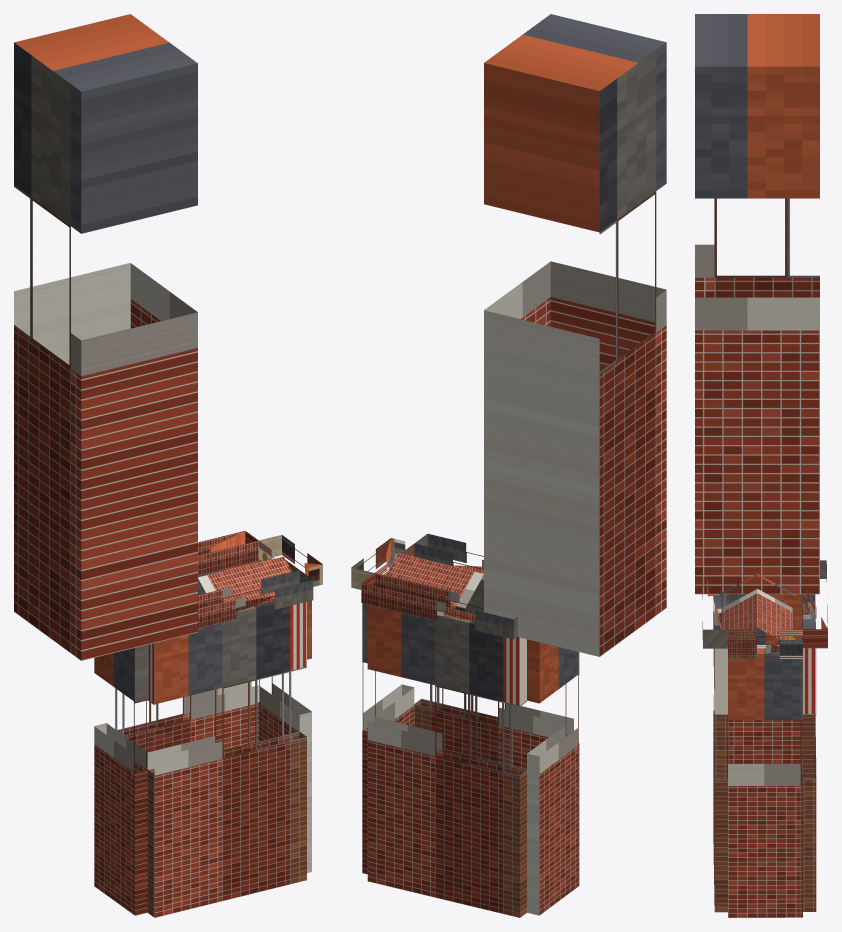
The picture shows the model from 3 angles, left to right: view 1: azimuth 30°, elevation 25°; view 2: azimuth 150°, elevation 25°; view 3: azimuth 270°, elevation 25°; orthographic projection. The views are drawn at different scales.
Visible parts, largest first — view 1: 1107169167__chimney_0_xb, 1107169167__wall_0_xb, 1107169167__wall_1_xb, 1107169167__wall_2_xb, 1107169167__wall_3_xb, 1107169167__cornice_0, 1107169167_roof_-1_xb, 1107169167__cornice_2, 1107169167__cornice_3; view 2: 1107169167__chimney_0_xb, 1107169167__wall_2_xb, 1107169167__wall_1_xb, 1107169167__wall_0_xb, 1107169167__cornice_2, 1107169167__wall_3_xb, 1107169167_roof_1_xb, 1107169167__cornice_0, 1107169167__cornice_3; view 3: 1107169167__chimney_0_xb, 1107169167__wall_3_xb, 1107169167__wall_1_xb, 1107169167__wall_0_xb, 1107169167__wall_2_xb, 1107169167__cornice_3, 1107169167_roof_1_xb, 1107169167_roof_-1_xb, 1107169167__cornice_2, 1107169167__cornice_0.
Part boxes in pixels (x1,y1,x2,y2): 1107169167__chimney_0_xb: [14, 14, 197, 660]; 1107169167__wall_0_xb: [147, 601, 306, 917]; 1107169167__wall_1_xb: [94, 645, 147, 915]; 1107169167__wall_2_xb: [115, 561, 258, 768]; 1107169167__wall_3_xb: [258, 558, 311, 872]; 1107169167__cornice_0: [198, 570, 313, 628]; 1107169167_roof_-1_xb: [198, 556, 291, 605]; 1107169167__cornice_2: [198, 531, 258, 575]; 1107169167__cornice_3: [258, 535, 322, 586]; 1107169167__chimney_0_xb: [484, 14, 666, 656]; 1107169167__wall_2_xb: [367, 604, 526, 917]; 1107169167__wall_1_xb: [527, 639, 579, 915]; 1107169167__wall_0_xb: [414, 576, 573, 769]; 1107169167__cornice_2: [361, 573, 517, 639]; 1107169167__wall_3_xb: [362, 570, 414, 874]; 1107169167_roof_1_xb: [386, 553, 483, 610]; 1107169167__cornice_0: [414, 533, 483, 573]; 1107169167__cornice_3: [351, 538, 414, 589]; 1107169167__chimney_0_xb: [695, 14, 819, 594]; 1107169167__wall_3_xb: [728, 648, 802, 917]; 1107169167__wall_1_xb: [727, 594, 801, 772]; 1107169167__wall_0_xb: [713, 594, 727, 912]; 1107169167__wall_2_xb: [801, 594, 816, 911]; 1107169167__cornice_3: [728, 629, 802, 658]; 1107169167_roof_1_xb: [757, 574, 795, 639]; 1107169167_roof_-1_xb: [719, 574, 757, 632]; 1107169167__cornice_2: [802, 560, 827, 648]; 1107169167__cornice_0: [702, 580, 727, 648].
Size of the model in its own units: 0.3339 by 1.05 by 0.1597.
1 material, 1 textured.
